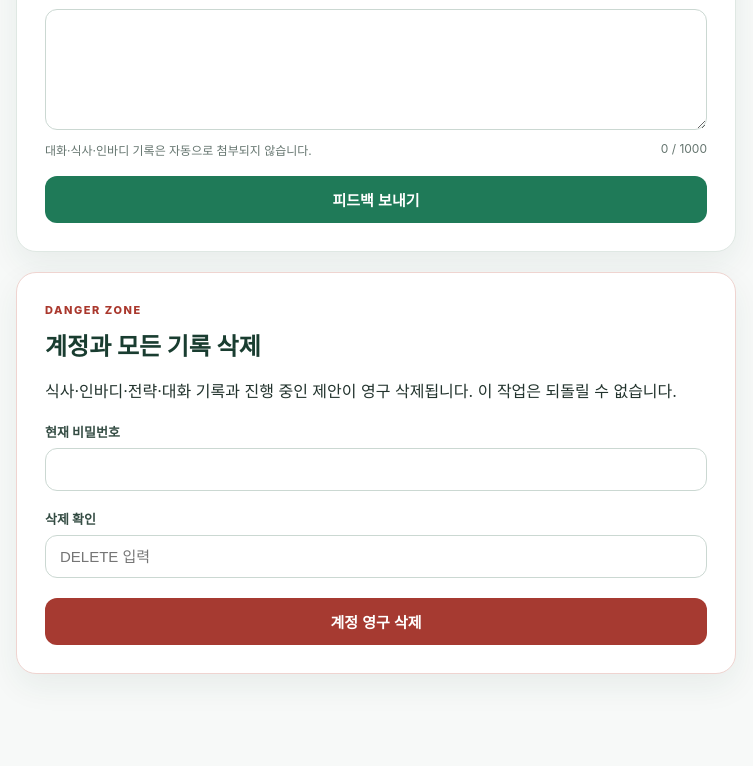
returns to password reauthentication if the partial-failure retry becomes stale
This screenshot has width=753, height=766.
(page scrolled)
In the password field labelled "현재 비밀번호": (376, 470) [45,448,707,491], type "correct-password"
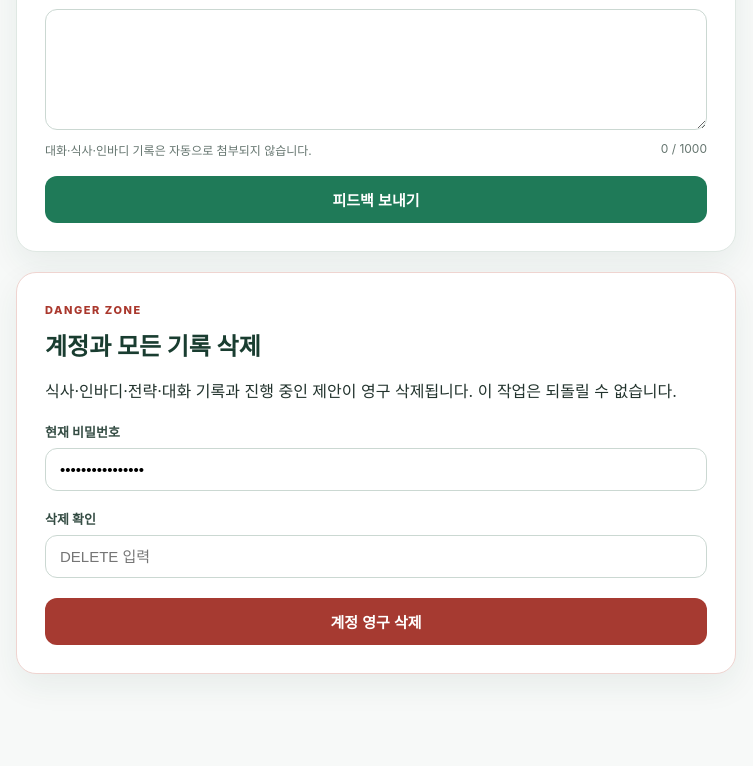
In the field labelled "삭제 확인": (376, 557) [45,535,707,578], type "DELETE"
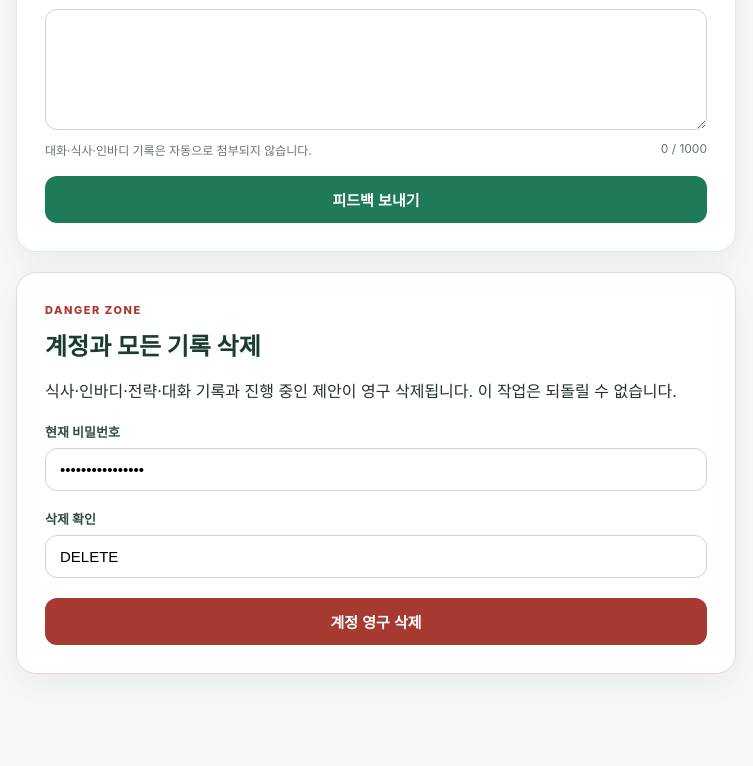
Click the button "계정 영구 삭제": (376, 622) [45,598,707,645]
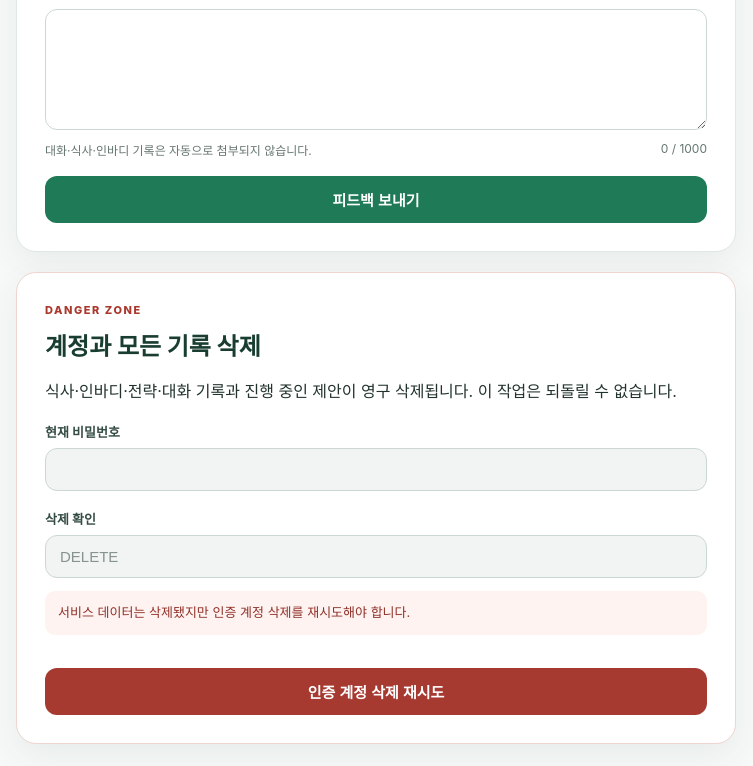
Click the button "인증 계정 삭제 재시도": (376, 691) [45,668,707,715]
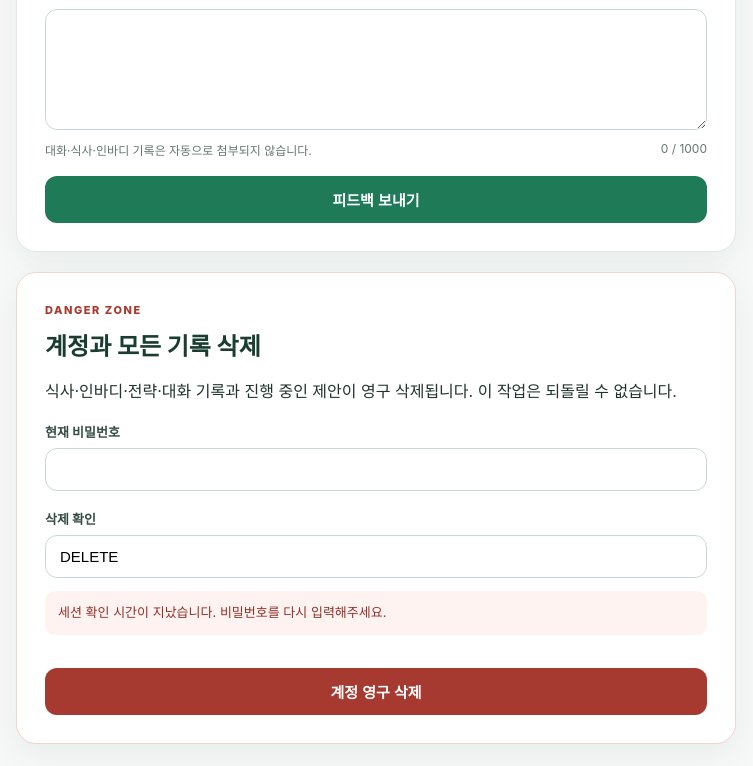
Expected: the password field labelled "현재 비밀번호" is enabled, [45,448,707,491]
Expected: the text "세션 확인 시간이 지났습니다. 비밀번호를 다시 입력해주세요." is shown, [45,591,707,634]
Expected: the button "계정 영구 삭제" is shown, [45,668,707,715]
